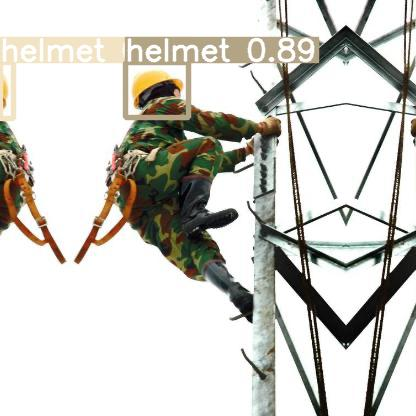helmet: (125, 62, 188, 117), (0, 62, 13, 118)
